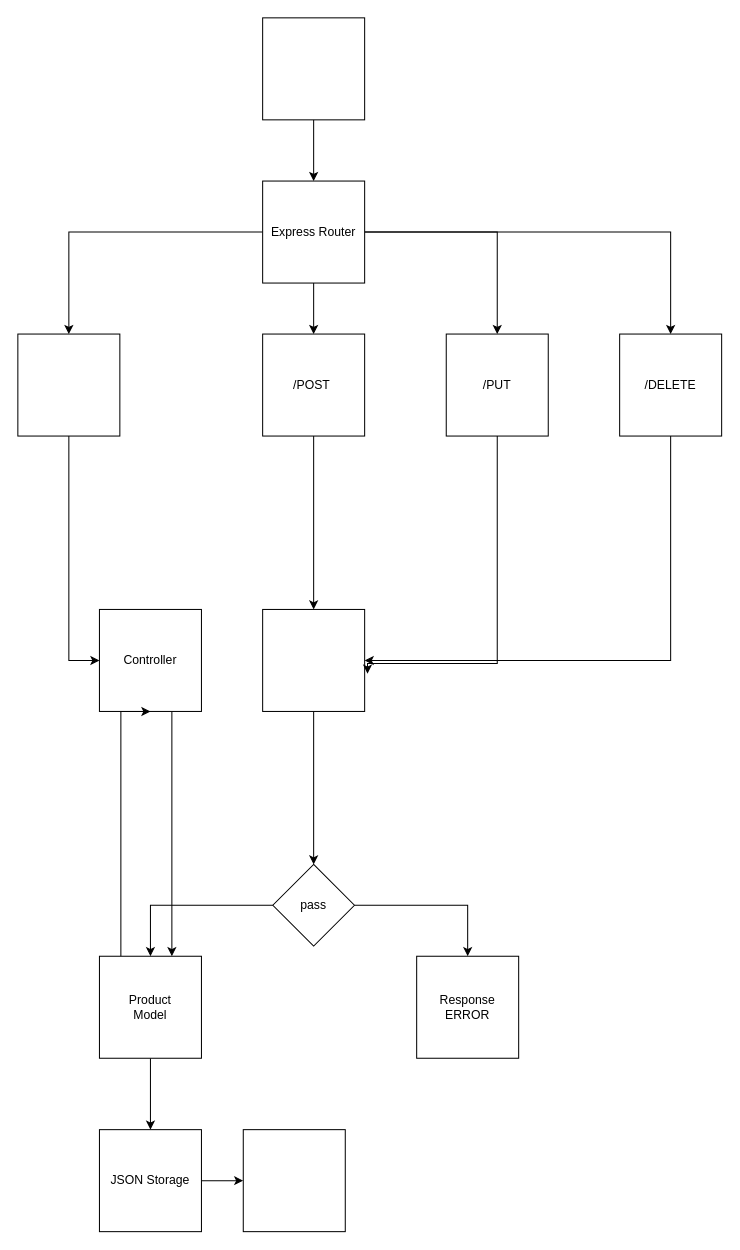
This 740x1250 diagram has some shape labels left out. Each missing label, with the centre of its shape:
"/GET" goes at (x=68, y=384).
"HTTP REQUEST" goes at (x=313, y=68).
"Response Success" goes at (x=293, y=1180).
"Validate" goes at (x=313, y=659).
